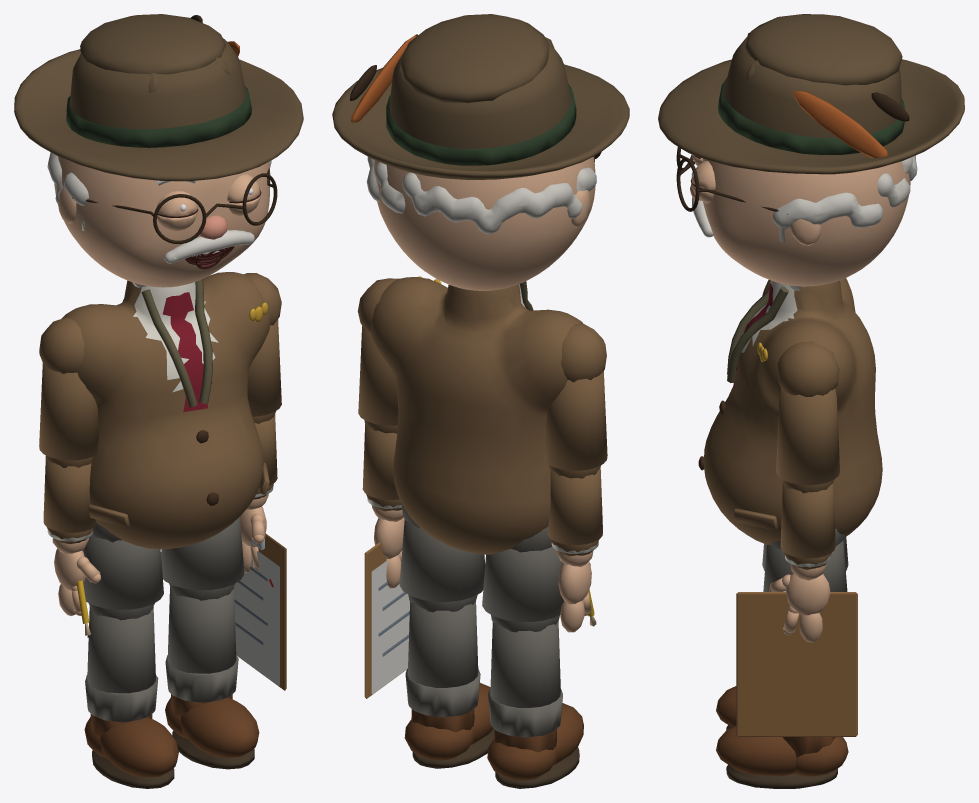
The model's file is judge.glb.
The picture shows the model from 3 angles, left to right: view 1: azimuth 30°, elevation 25°; view 2: azimuth 150°, elevation 25°; view 3: azimuth 270°, elevation 25°; orthographic projection. The views are drawn at different scales.
Parts seen in each view (by area): view 1: farmer_j; view 2: farmer_j; view 3: farmer_j.
Part boxes in pixels (x1,y1,x2,y2): farmer_j: (14, 14, 303, 788); farmer_j: (332, 14, 629, 788); farmer_j: (658, 14, 964, 788).
Size of the model in its own units: 0.5223 by 1.45 by 0.5557.
